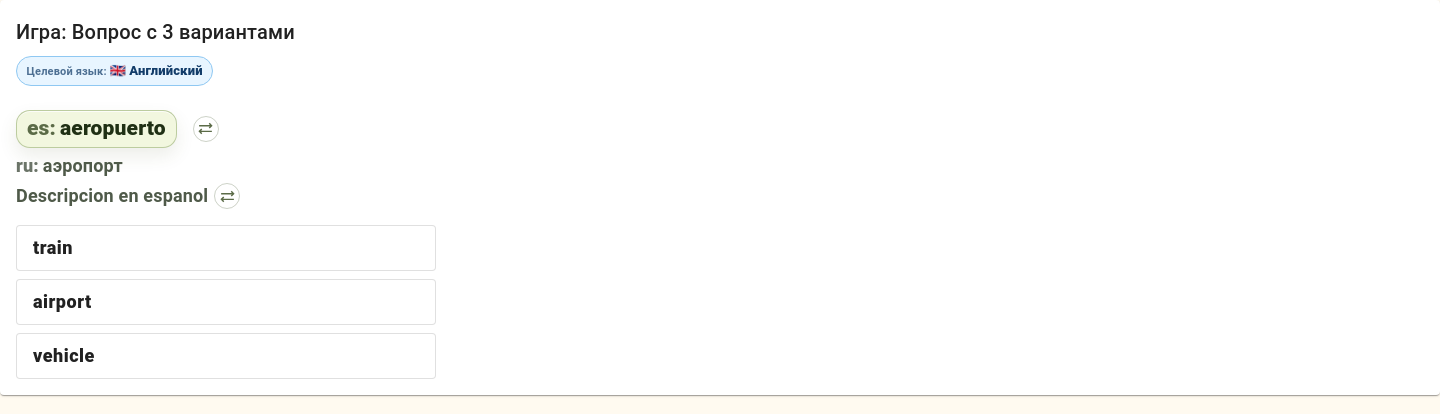
MultipleChoiceExercise › shows definition hints in companion language priority order
Expected: the text with test id "multiple_choice_exercise__prompt_hint__airport__definition" reads "Descripcion en espanol", [16, 185, 208, 206]
Step 1. Click the button with test id "multiple_choice_exercise__prompt_hint__airport__definition_switcher" → (227, 196), box [214, 183, 240, 209]
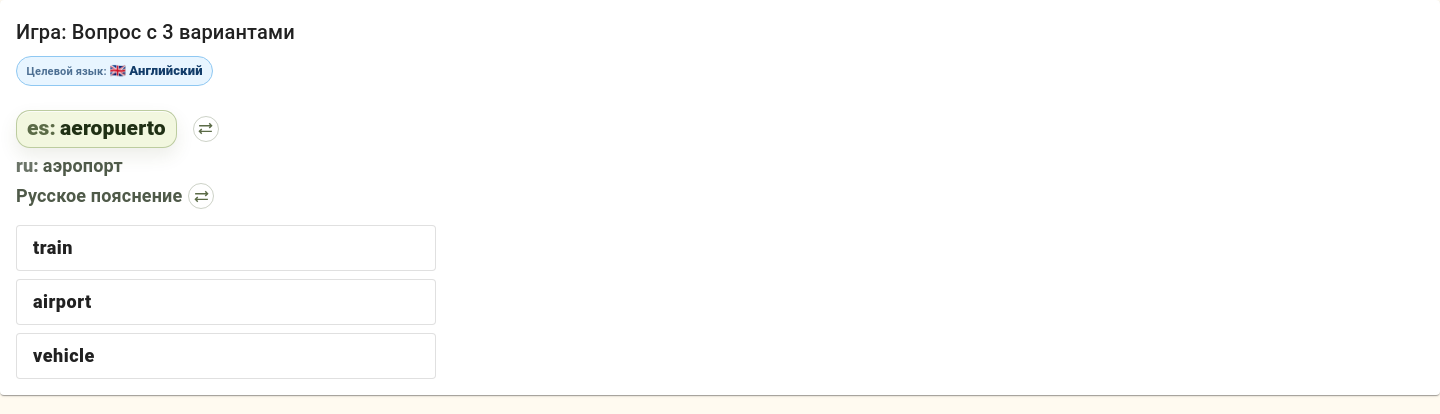
Now the text with test id "multiple_choice_exercise__prompt_hint__airport__definition" reads "Русское пояснение", box [16, 185, 182, 206]
Step 2. Click the button with test id "multiple_choice_exercise__prompt_hint__airport__definition_switcher" → (201, 196), box [188, 183, 214, 209]
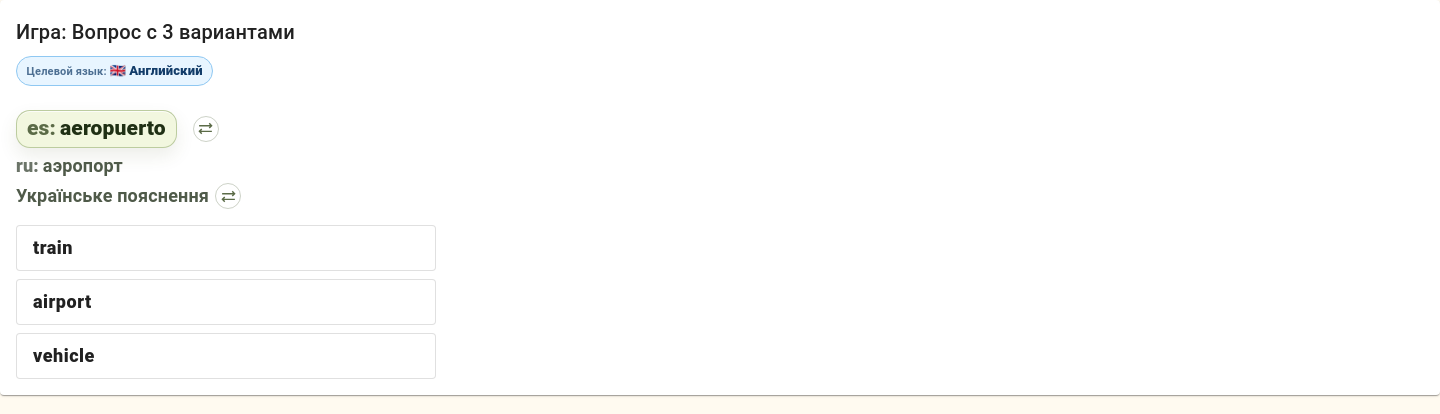
Now the text with test id "multiple_choice_exercise__prompt_hint__airport__definition" reads "Українське пояснення", box [16, 185, 209, 206]
